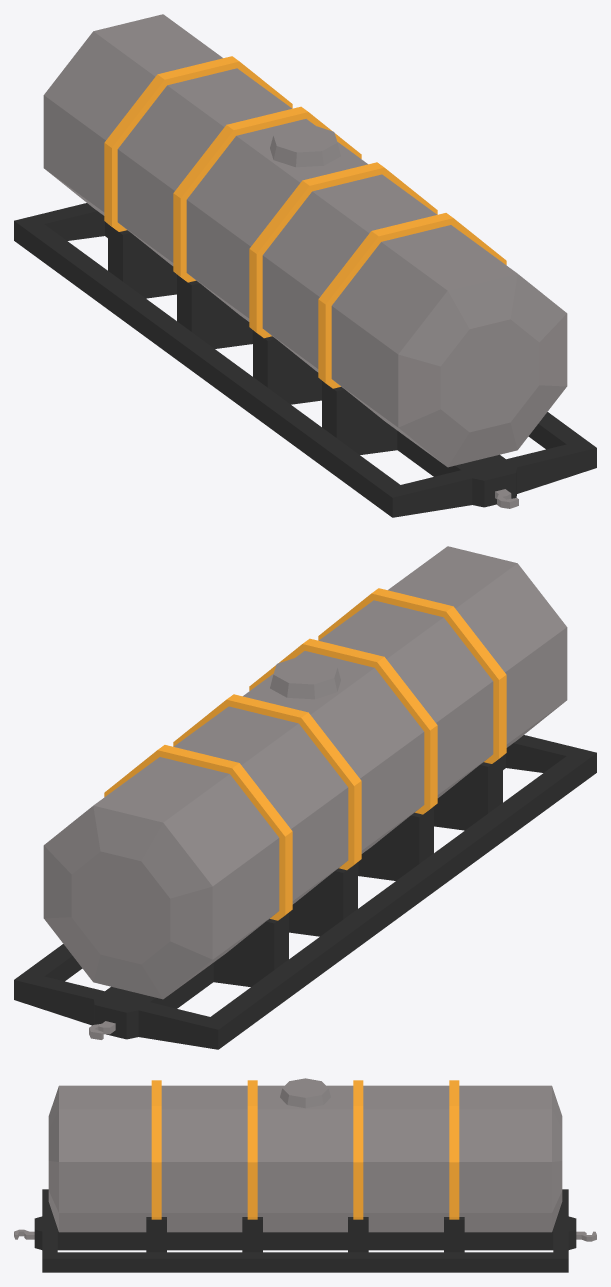
The model's file is train-wagon-oil-base.glb.
3 views of the same model, one above another, from view 1: azimuth 30°, elevation 25°; view 2: azimuth 150°, elevation 25°; view 3: azimuth 270°, elevation 25° (orthographic). The views are drawn at different scales.
Visible parts, largest first — view 1: train-wagon-oil-base; view 2: train-wagon-oil-base; view 3: train-wagon-oil-base.
Part boxes in pixels (left/top/right/bottom): train-wagon-oil-base: left=14, top=14, right=596, bottom=517; train-wagon-oil-base: left=14, top=546, right=596, bottom=1049; train-wagon-oil-base: left=14, top=1078, right=596, bottom=1272.
Bounding box in the file's own units: 3.2 × 3.32 × 11.36.
1 material, 1 textured.
